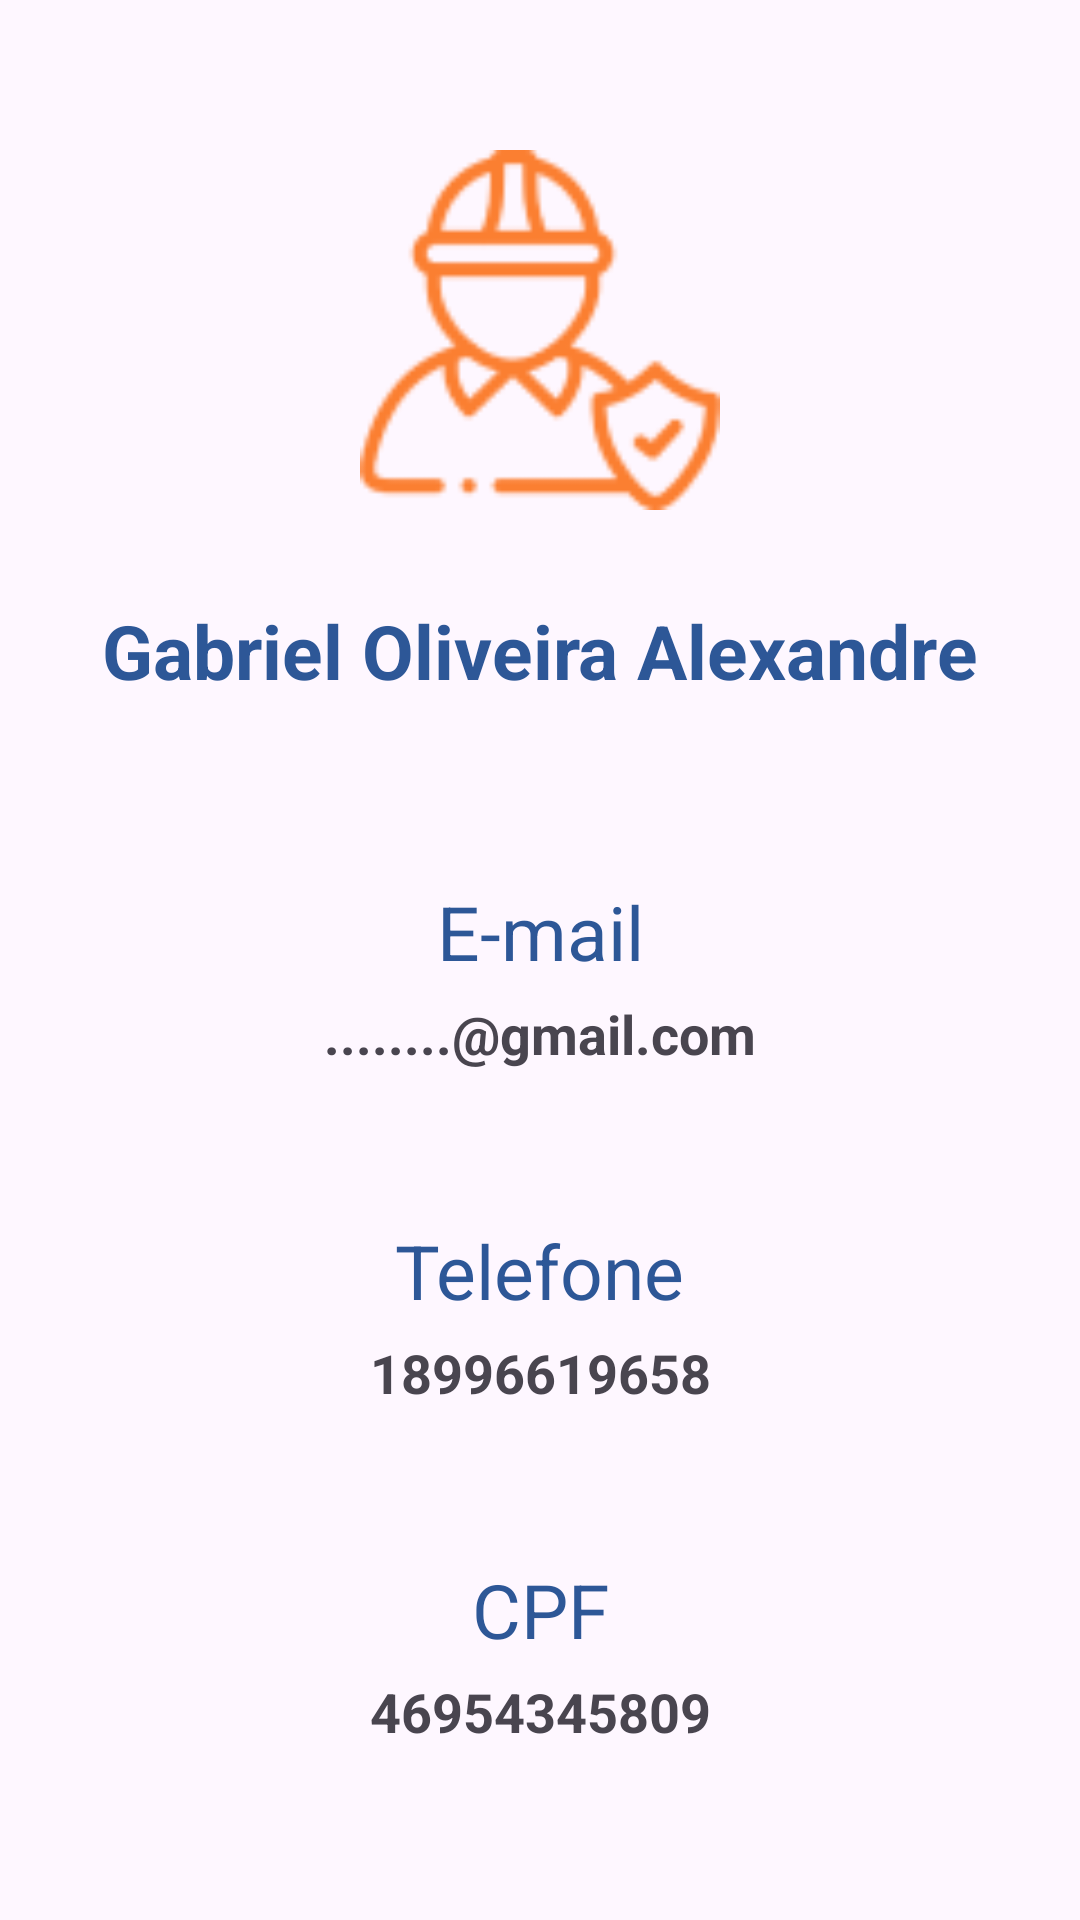

Icon bounding boxes for this 1080 x 1920 phone screenshot, format (x1, y1, x2, y2):
trabalhadorlista: (360, 150, 720, 510)
